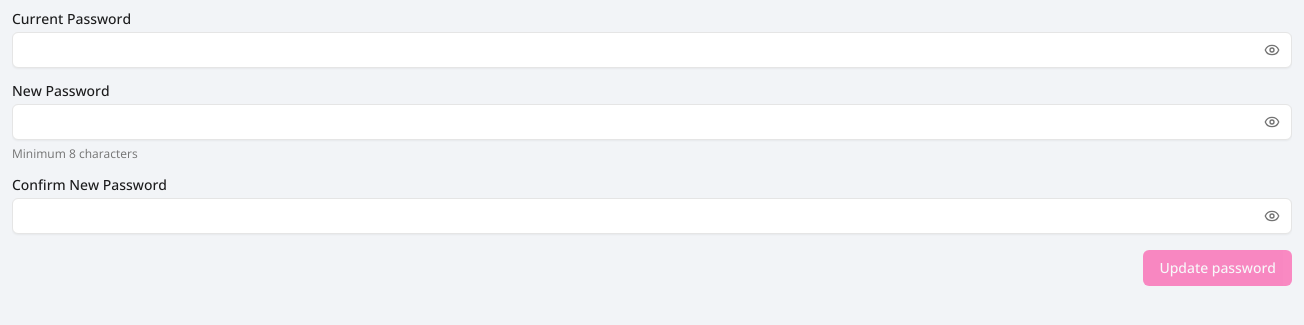
it: SecurityForm › shows mismatch error when passwords do not match
Type "newpass123" into the password field labelled "New Password".
click(652, 122); type("newpass123")  # box [12,104,1292,140]
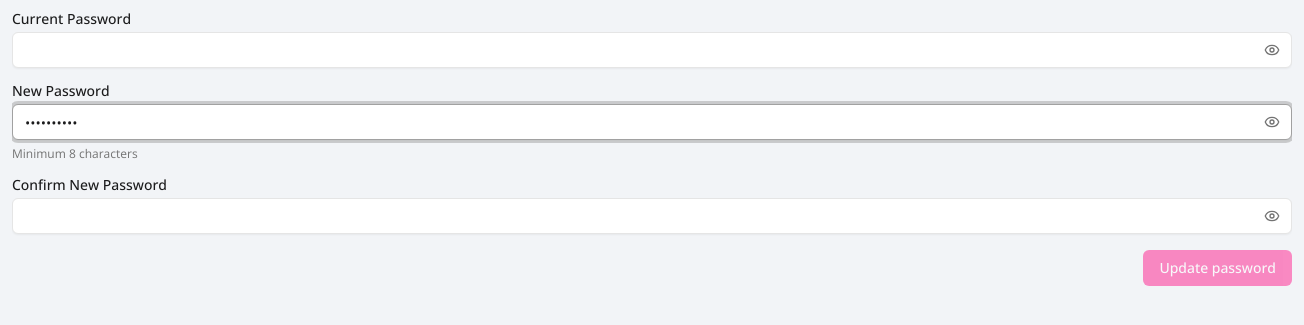
Type "different1" into the password field labelled "Confirm New Password".
click(652, 216); type("different1")  # box [12,198,1292,234]
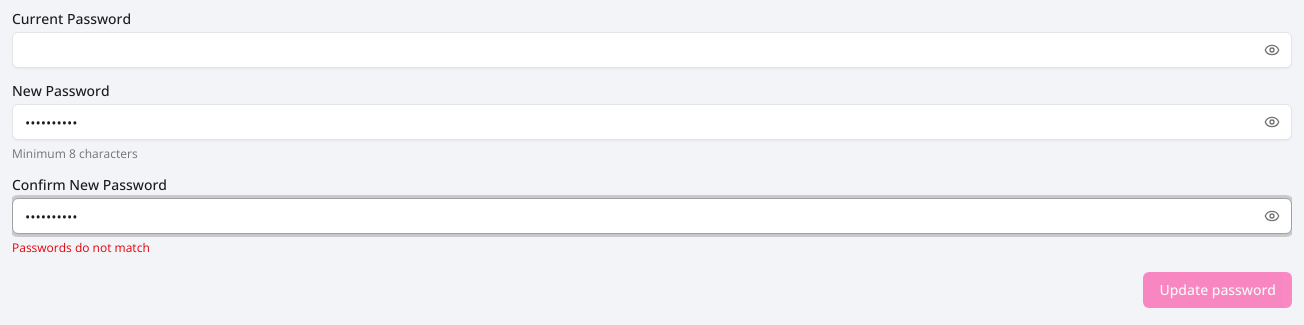
Expected: the message reads "Passwords do not match", [12,239,150,256]
